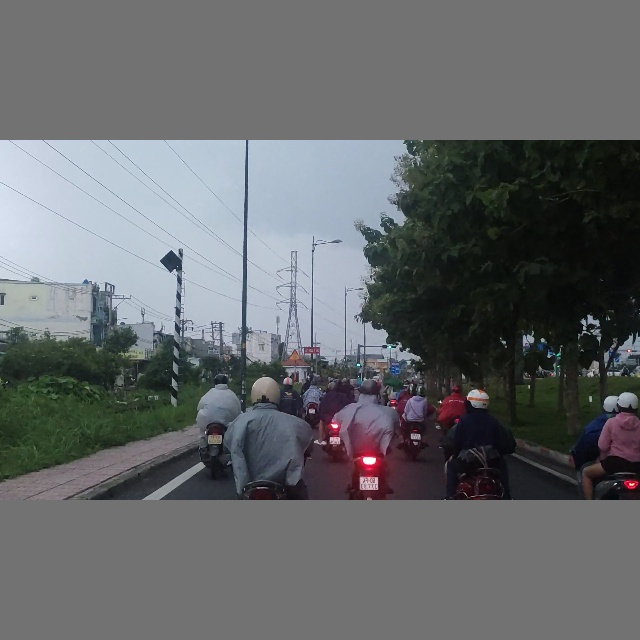W.210: (288, 349, 301, 361)
